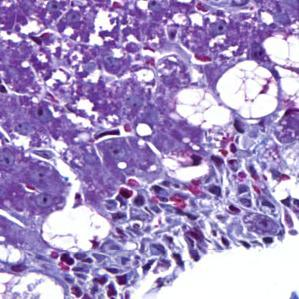ballooning: (212, 58, 283, 121), (41, 203, 113, 256), (173, 83, 234, 134), (261, 23, 298, 106)
